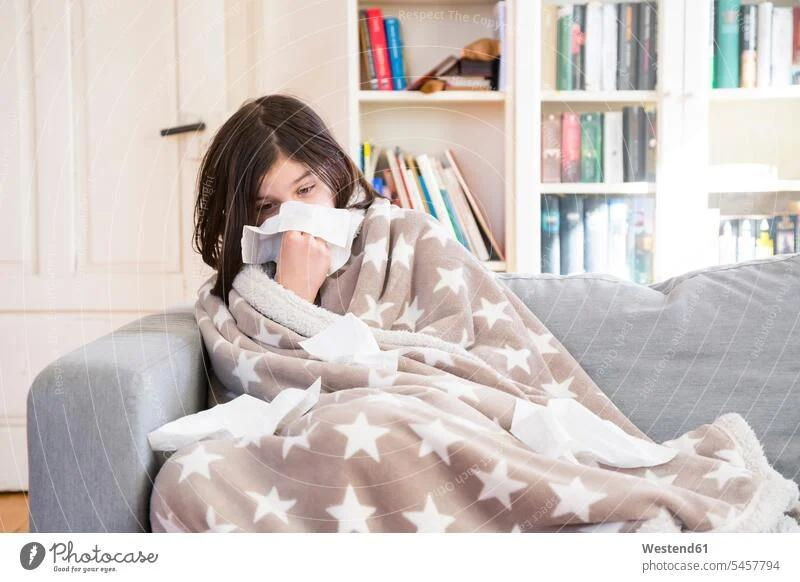blanket: (147, 189, 800, 534)
